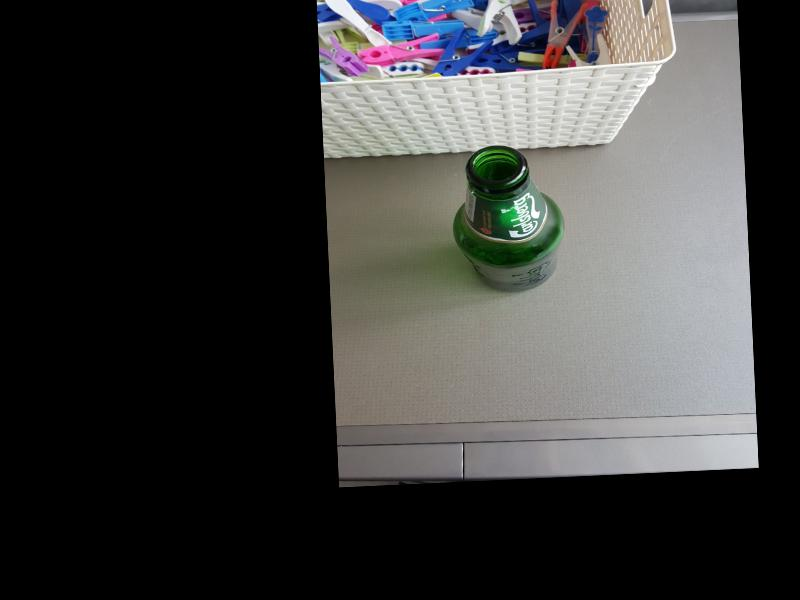Beer: (449, 143, 568, 295)
